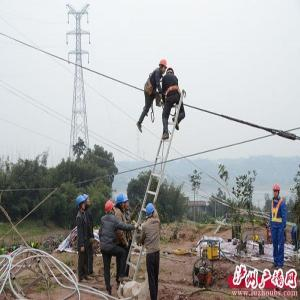blue: (146, 202, 156, 220), (76, 195, 86, 212), (117, 193, 126, 211), (84, 193, 91, 207), (124, 196, 130, 211)
red: (106, 199, 117, 218), (159, 58, 169, 76), (273, 183, 281, 200)
